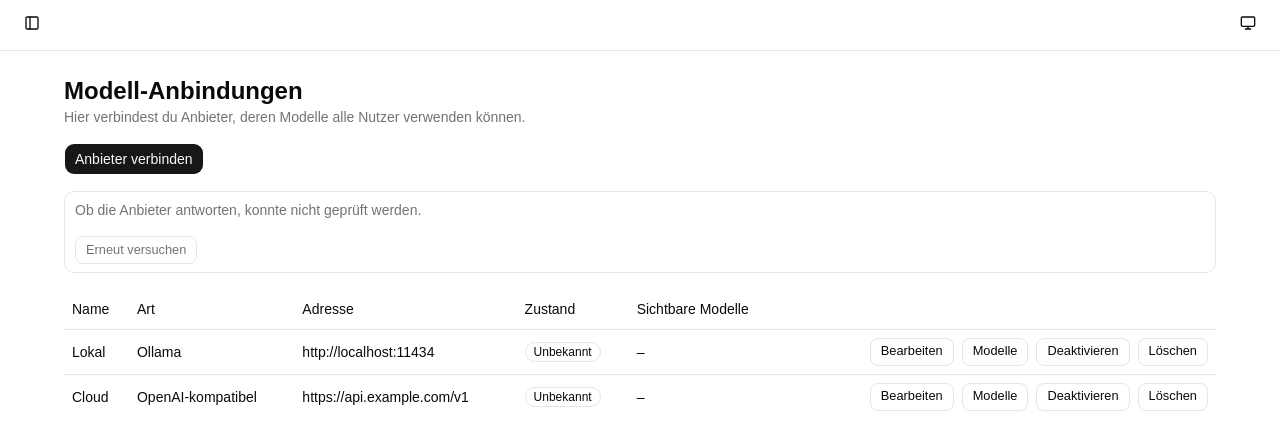
Test: AdminConnectionsPage: list › keeps the table usable when the health of the providers cannot be read
Expected: the heading "Modell-Anbindungen" is shown, [64,77,303,104]
Expected: the text "Unbekannt" in the row of "Lokal" is shown, [534,345,592,359]
Click the button "Erneut versuchen" at (136, 250), box [75,236,197,264]
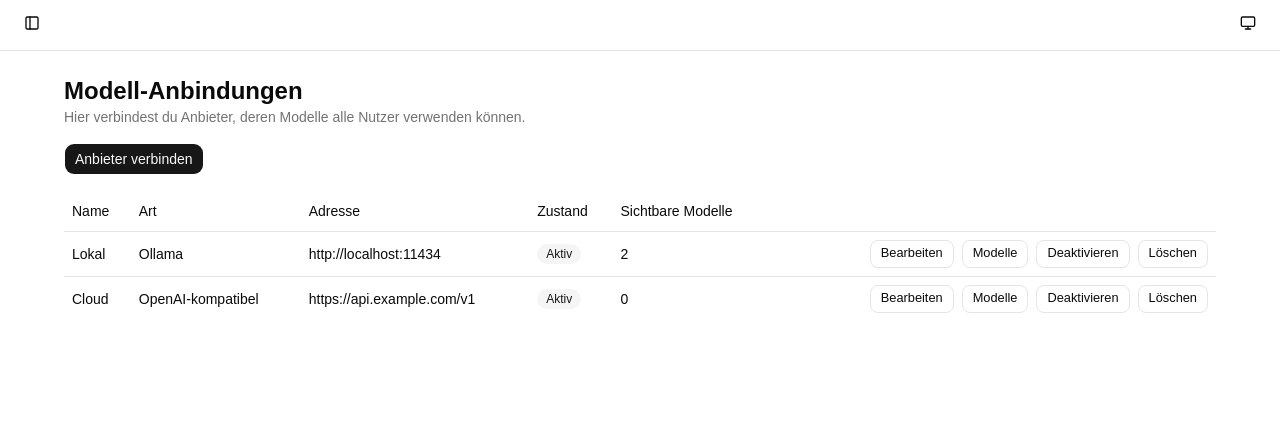
Expected: the icon "Aktiv" in the row of "Lokal" is shown, [546,247,572,261]
